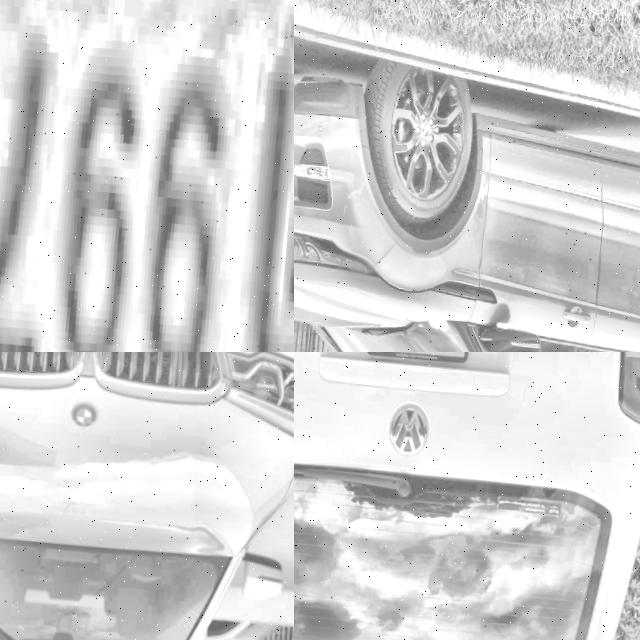license-plate: (0, 0, 294, 352), (358, 352, 473, 370)
